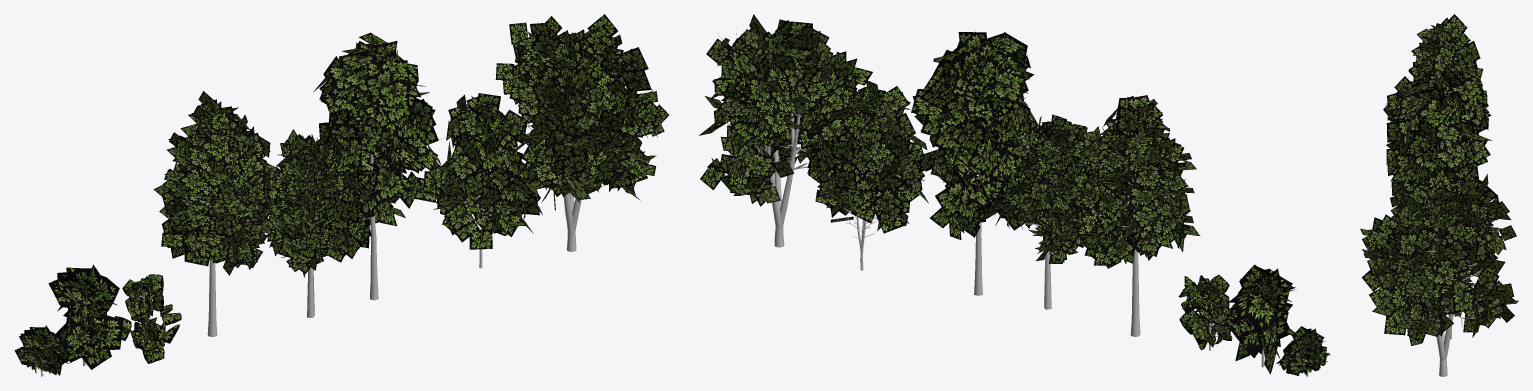
Rendered from tree1.obj.
3 views of the same model, side by side, from view 1: azimuth 30°, elevation 25°; view 2: azimuth 150°, elevation 25°; view 3: azimuth 270°, elevation 25° (orthographic). The views are drawn at different scales.
Parts seen in each view (by area): view 1: leaf003.018, leaf003.003, leaf003.001, leaf003.116, leaf003.027, leaf003.041, leaf003.017, leaf003.002, tree.018, tree.020, tree.017; view 2: leaf003.018, leaf003.001, leaf003.003, leaf003.116, leaf003.027, leaf003.041, leaf003.017, leaf003.002, tree.018, tree.017; view 3: leaf003.018, leaf003.001, leaf003.003, tree.018, leaf003.027, leaf003.116.
Part boxes in pixels (left/top/right/bottom): leaf003.018: left=495, top=14, right=668, bottom=210; leaf003.003: left=153, top=91, right=278, bottom=275; leaf003.001: left=313, top=32, right=438, bottom=248; leaf003.116: left=414, top=93, right=551, bottom=249; leaf003.027: left=265, top=129, right=366, bottom=277; leaf003.041: left=48, top=264, right=123, bottom=369; leaf003.017: left=114, top=274, right=181, bottom=363; leaf003.002: left=14, top=325, right=69, bottom=375; tree.018: left=524, top=77, right=622, bottom=251; tree.020: left=361, top=131, right=381, bottom=300; tree.017: left=195, top=127, right=217, bottom=336; leaf003.018: left=699, top=14, right=872, bottom=206; leaf003.001: left=911, top=31, right=1038, bottom=239; leaf003.003: left=1072, top=95, right=1199, bottom=268; leaf003.116: left=814, top=80, right=928, bottom=233; leaf003.027: left=1001, top=114, right=1089, bottom=263; leaf003.041: left=1228, top=264, right=1296, bottom=374; leaf003.017: left=1178, top=274, right=1237, bottom=350; leaf003.002: left=1276, top=326, right=1330, bottom=375; tree.018: left=720, top=81, right=810, bottom=247; tree.017: left=1118, top=114, right=1164, bottom=336; leaf003.018: left=1360, top=167, right=1518, bottom=345; leaf003.001: left=1383, top=60, right=1497, bottom=202; leaf003.003: left=1394, top=14, right=1491, bottom=134; tree.018: left=1420, top=239, right=1484, bottom=376; leaf003.027: left=1386, top=141, right=1409, bottom=207; leaf003.116: left=1408, top=184, right=1481, bottom=313.
Size of the model in its own units: 46.19 by 18.73 by 11.92.
